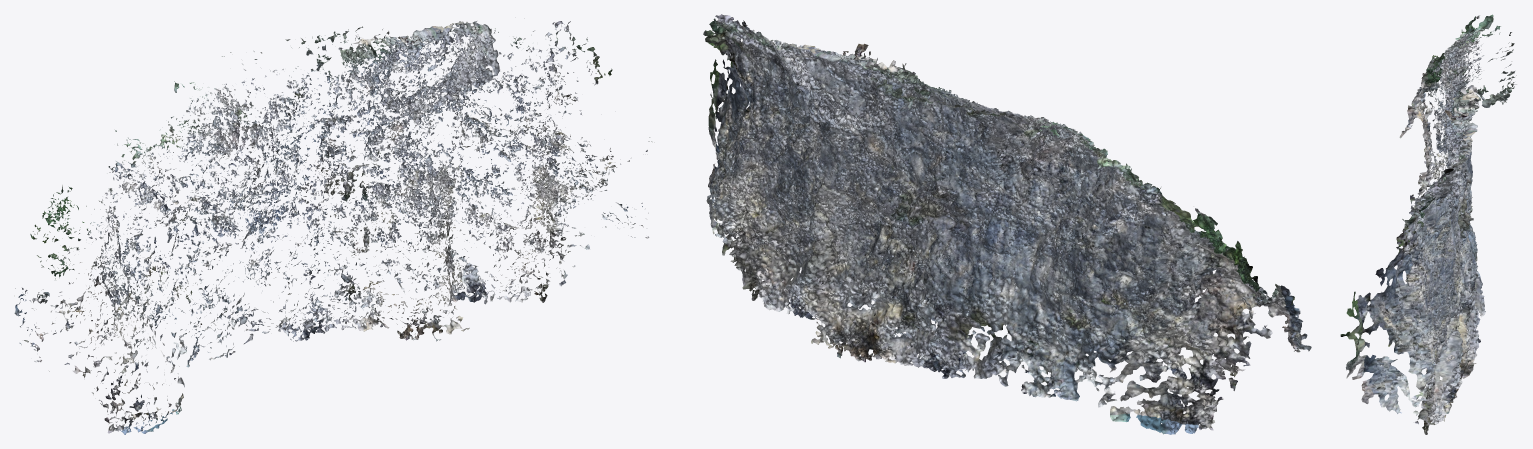
The model's file is korno_mesh_10mb.glb.
3 views of the same model, side by side, from view 1: azimuth 30°, elevation 25°; view 2: azimuth 150°, elevation 25°; view 3: azimuth 270°, elevation 25° (orthographic). The views are drawn at different scales.
Parts seen in each view (by area): view 1: geometry_0; view 2: geometry_0; view 3: geometry_0.
Part boxes in pixels (x1=…): geometry_0: x1=14, y1=21, x2=651, y2=434; geometry_0: x1=703, y1=14, x2=1311, y2=434; geometry_0: x1=1340, y1=14, x2=1516, y2=434.
Bounding box in the file's own units: 14.28 × 7.12 × 3.76.
Materials: 1 (1 with a texture image).
